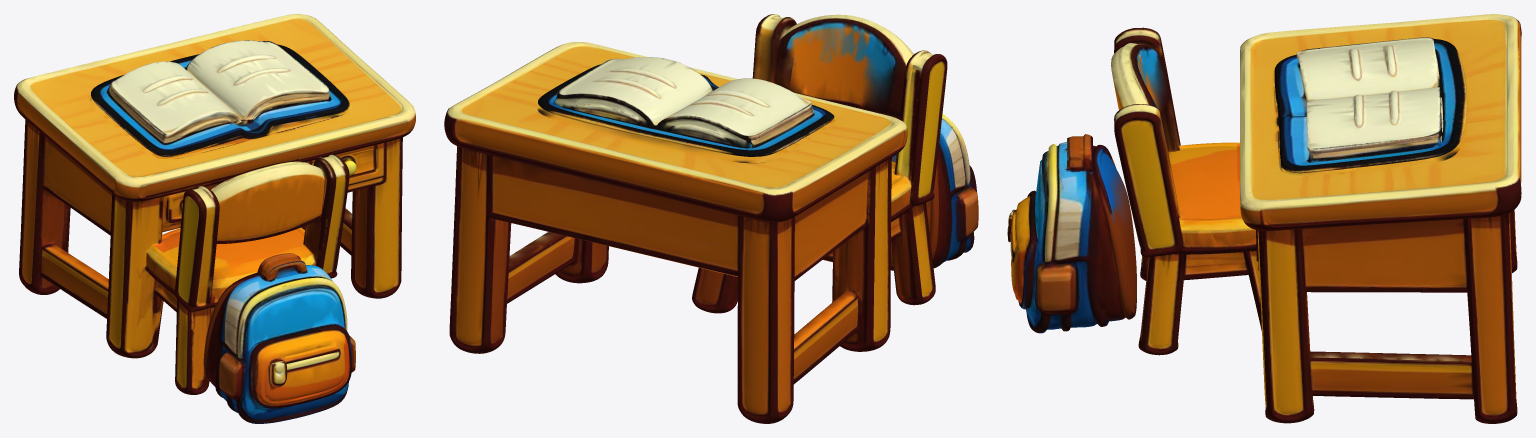
Rendered from desk.glb.
The picture shows the model from 3 angles, left to right: view 1: azimuth 30°, elevation 25°; view 2: azimuth 150°, elevation 25°; view 3: azimuth 270°, elevation 25°; orthographic projection. The views are drawn at different scales.
Parts seen in each view (by area): view 1: node_0; view 2: node_0; view 3: node_0.
Part boxes in pixels (x1=…): node_0: x1=14, y1=14, x2=415, y2=423; node_0: x1=444, y1=14, x2=978, y2=423; node_0: x1=1007, y1=14, x2=1521, y2=423.
Bounding box in the file's own units: 0.727 × 0.5236 × 0.8998.
Materials: 1 (1 with a texture image).
